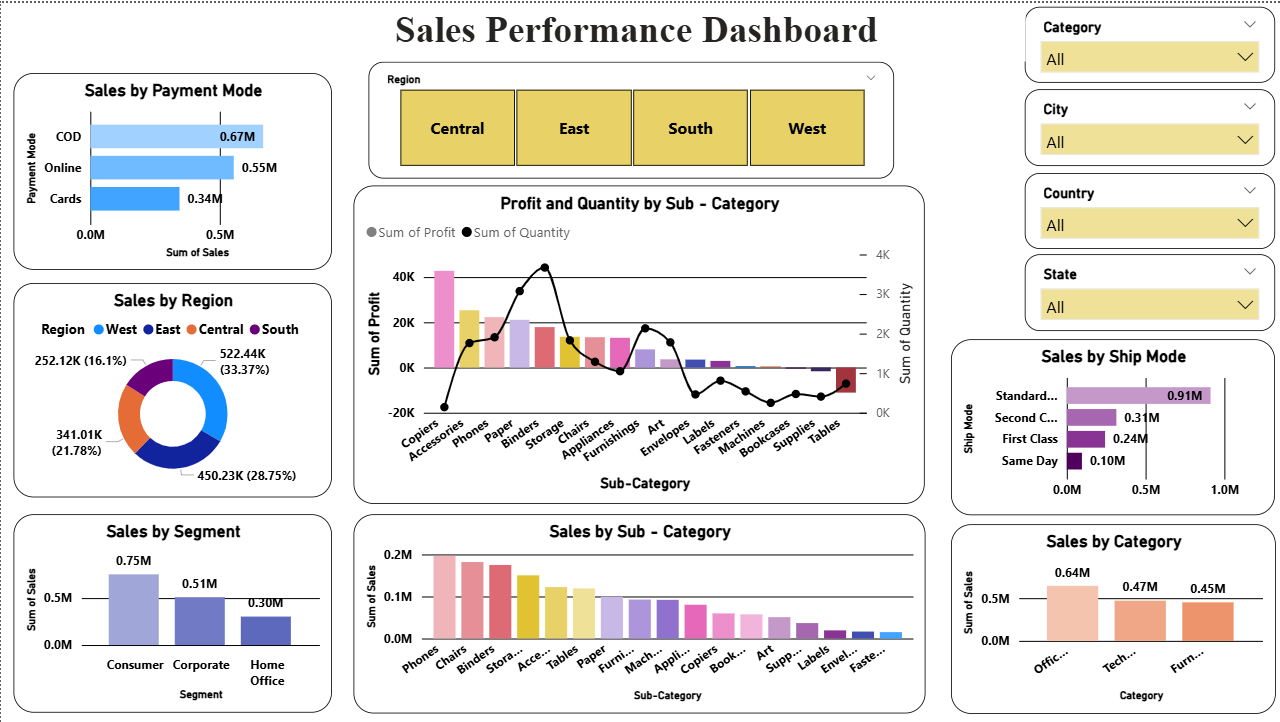

What the dashboard file says about the page in this screenshot:
{"tool":"powerbi","page":{"name":"Page 1","canvas":[1280,720],"ordinal":0},"visuals":[{"type":"barChart","title":"Sales by Payment Mode","fields":{"Y":["Sum(SuperStore_Sales_Dataset.Sales)"],"Category":["SuperStore_Sales_Dataset.Payment Mode"]},"box":[12.9,70,318.6,197.1],"z":0},{"type":"donutChart","title":"Sales by Region","fields":{"Y":["Sum(SuperStore_Sales_Dataset.Sales)"],"Category":["SuperStore_Sales_Dataset.Region"]},"box":[12.9,280,318.6,214.3],"z":1000},{"type":"columnChart","title":"Sales by Segment","fields":{"Category":["SuperStore_Sales_Dataset.Segment"],"Y":["Sum(SuperStore_Sales_Dataset.Sales)"]},"box":[12.9,511.4,318.6,198.6],"z":2000},{"type":"columnChart","title":"Sales by Category","fields":{"Category":["SuperStore_Sales_Dataset.Category"],"Y":["Sum(SuperStore_Sales_Dataset.Sales)"]},"box":[950,521.4,324.3,198.6],"z":3000},{"type":"columnChart","title":"Sales by Sub - Category","fields":{"Category":["SuperStore_Sales_Dataset.Sub-Category"],"Y":["Sum(SuperStore_Sales_Dataset.Sales)"]},"box":[352.9,511.4,571.4,208.6],"z":4000},{"type":"barChart","title":"Sales by Ship Mode","fields":{"Y":["Sum(SuperStore_Sales_Dataset.Sales)"],"Category":["SuperStore_Sales_Dataset.Ship Mode"]},"box":[950,335.7,324.3,175.7],"z":5000},{"type":"lineClusteredColumnComboChart","title":"Profit and Quantity by Sub - Category","fields":{"Category":["SuperStore_Sales_Dataset.Sub-Category"],"Y":["Sum(SuperStore_Sales_Dataset.Profit)"],"Y2":["Sum(SuperStore_Sales_Dataset.Quantity)"]},"box":[352.9,182.9,571.4,318.6],"z":6000},{"type":"slicer","fields":{"Values":["SuperStore_Sales_Dataset.Category"]},"box":[1024.3,4.3,250,75.7],"z":7000},{"type":"slicer","fields":{"Values":["SuperStore_Sales_Dataset.City"]},"box":[1024.3,85.7,250,77.1],"z":8000},{"type":"slicer","fields":{"Values":["SuperStore_Sales_Dataset.Country"]},"box":[1024.3,170,250,75.7],"z":9000},{"type":"slicer","fields":{"Values":["SuperStore_Sales_Dataset.State"]},"box":[1024.3,251.4,250,77.1],"z":10000},{"type":"slicer","fields":{"Values":["SuperStore_Sales_Dataset.Region"]},"box":[367.1,58.6,525.7,117.1],"z":11000},{"type":"textbox","box":[245.7,0,778.6,58.6],"z":12000}]}

Visuals, with their boxes in screenshot pixels (x1, y1, x2, y2), scaled from the page's 1280x720 canvas onto the 1280x722 screenshot:
"Sales by Payment Mode" barChart: 13,70,332,268
"Sales by Region" donutChart: 13,281,332,496
"Sales by Segment" columnChart: 13,513,332,712
"Sales by Category" columnChart: 950,523,1274,721
"Sales by Sub - Category" columnChart: 353,513,924,721
"Sales by Ship Mode" barChart: 950,337,1274,513
"Profit and Quantity by Sub - Category" lineClusteredColumnComboChart: 353,183,924,503
slicer - SuperStore_Sales_Dataset.Category: 1024,4,1274,80
slicer - SuperStore_Sales_Dataset.City: 1024,86,1274,163
slicer - SuperStore_Sales_Dataset.Country: 1024,170,1274,246
slicer - SuperStore_Sales_Dataset.State: 1024,252,1274,329
slicer - SuperStore_Sales_Dataset.Region: 367,59,893,176
textbox: 246,0,1024,59
